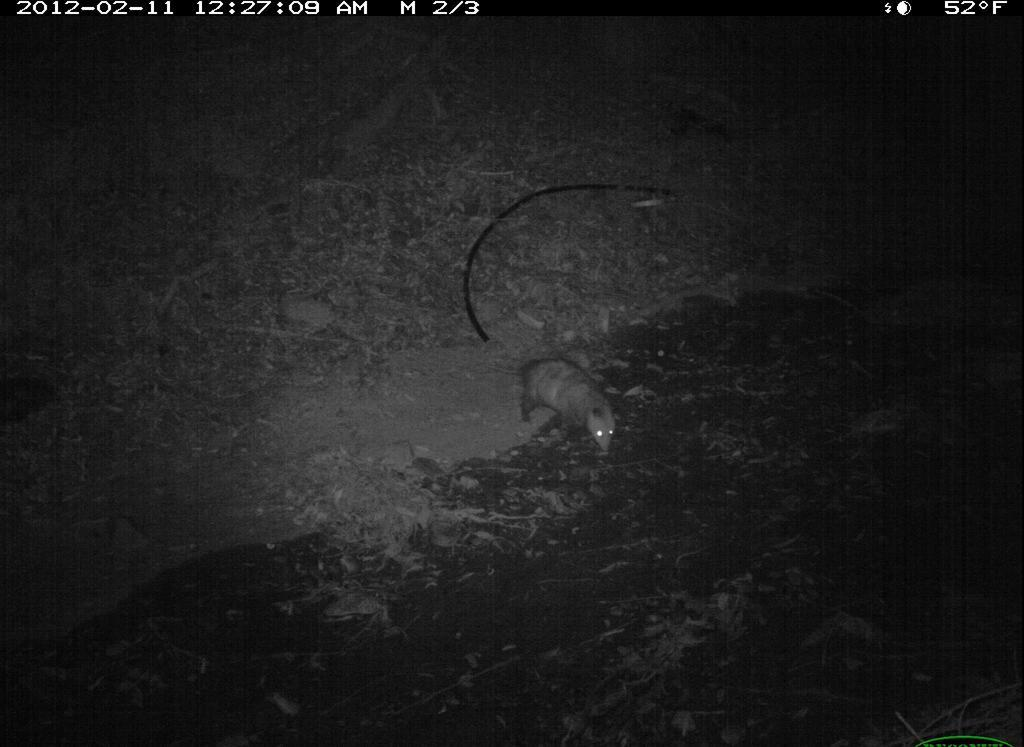opossum: (477, 350, 632, 461)
